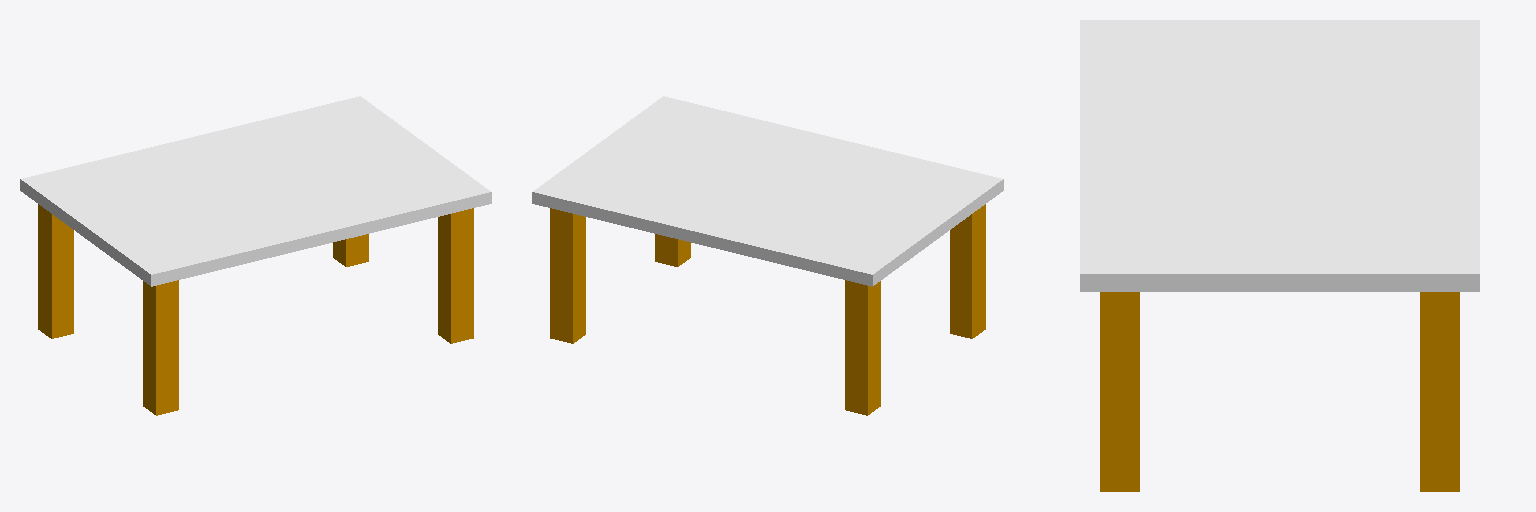
robot.urdf — table_tallerscaled.urdf:
<?xml version="0.0" ?>
<robot name="table_tallerscaled.urdf">
  <link name="baseLink">
    <contact>
      <lateral_friction value="1.0"/>
    </contact>
    <inertial>
      <origin rpy="0 0 0" xyz="0 0 0"/>
       <mass value=".0"/>
       <inertia ixx="1" ixy="0" ixz="0" iyy="1" iyz="0" izz="1"/>
    </inertial>
    <visual>
      <origin rpy="0 0 0" xyz="0 0 0.84"/>
      <geometry>
				<mesh filename="table_top.obj"/>
      </geometry>
       <material name="white">
        <color rgba="1 1 1 1"/>
      </material>
    </visual>
    <collision>
      <origin rpy="0 0 0" xyz="0 0 0.84"/>
      <geometry>
	 	<box size="2.099 1.4 0.07"/>
      </geometry>
    </collision>
	<visual>
      <origin rpy="0 0 0" xyz="-0.909 -0.56 0.405"/>
      <geometry>
	    <mesh filename="table_foot.obj" />
      </geometry> 
    </visual>
    <visual>
      <origin rpy="0 0 0" xyz="-0.909 0.56 0.405"/>
      <geometry>
        <mesh filename="table_foot.obj" />
      </geometry>
	  </visual>
    <visual>
      <origin rpy="0 0 0" xyz="0.909 -0.56 0.405"/>
      <geometry>
        <mesh filename="table_foot.obj" />
      </geometry>
	  </visual>
    <visual>
      <origin rpy="0 0 0" xyz="0.909 0.56 0.405"/>
      <geometry>
        <mesh filename="table_foot.obj" />
      </geometry>
    </visual>
  </link>
</robot>

--- What the picture shows (computed from the rendered views, not written in the file) ---
The picture shows the robot from 3 angles, left to right: view 1: azimuth 30°, elevation 25°; view 2: azimuth 150°, elevation 25°; view 3: azimuth 270°, elevation 25°; orthographic projection.
Robot: table_tallerscaled.urdf — 1 links, 0 joints (none); root link baseLink; default pose: all joints at 0.
Links seen in each view (by area): view 1: baseLink; view 2: baseLink; view 3: baseLink.
Boxes of the visible links, bbox=[...] form: baseLink: bbox=[20, 96, 491, 415]; baseLink: bbox=[532, 96, 1003, 415]; baseLink: bbox=[1080, 20, 1479, 491].
Bounding box of the posed robot: 2.1 × 1.4 × 0.876 m (x, y, z).
5 mesh visuals loaded from 2 distinct referenced files (2 OBJ).